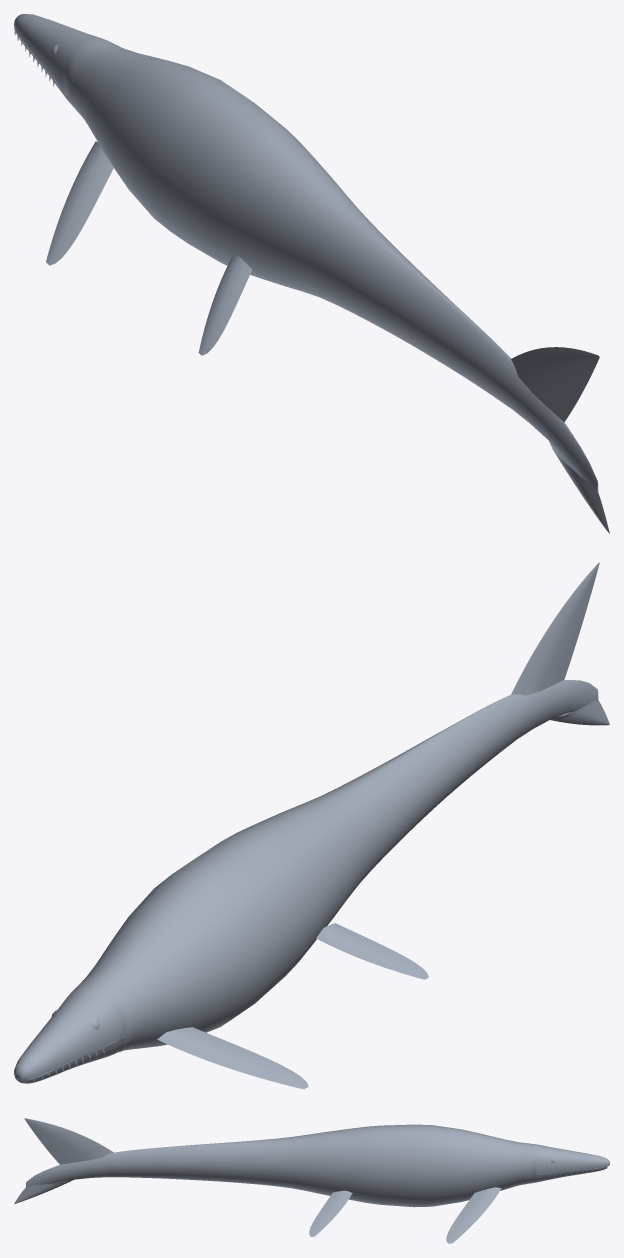
Rendered from mosasaur_game.glb.
3 views of the same model, one above another, from view 1: azimuth 30°, elevation 25°; view 2: azimuth 150°, elevation 25°; view 3: azimuth 270°, elevation 25° (orthographic). The views are drawn at different scales.
Parts seen in each view (by area): view 1: mosasaur_game; view 2: mosasaur_game; view 3: mosasaur_game.
Part boxes in pixels (x1,y1,x2,y2): mosasaur_game: (14,14,609,533); mosasaur_game: (14,562,609,1089); mosasaur_game: (14,1118,609,1243).
Bounding box in the file's own units: 3.04 × 2.08 × 12.
